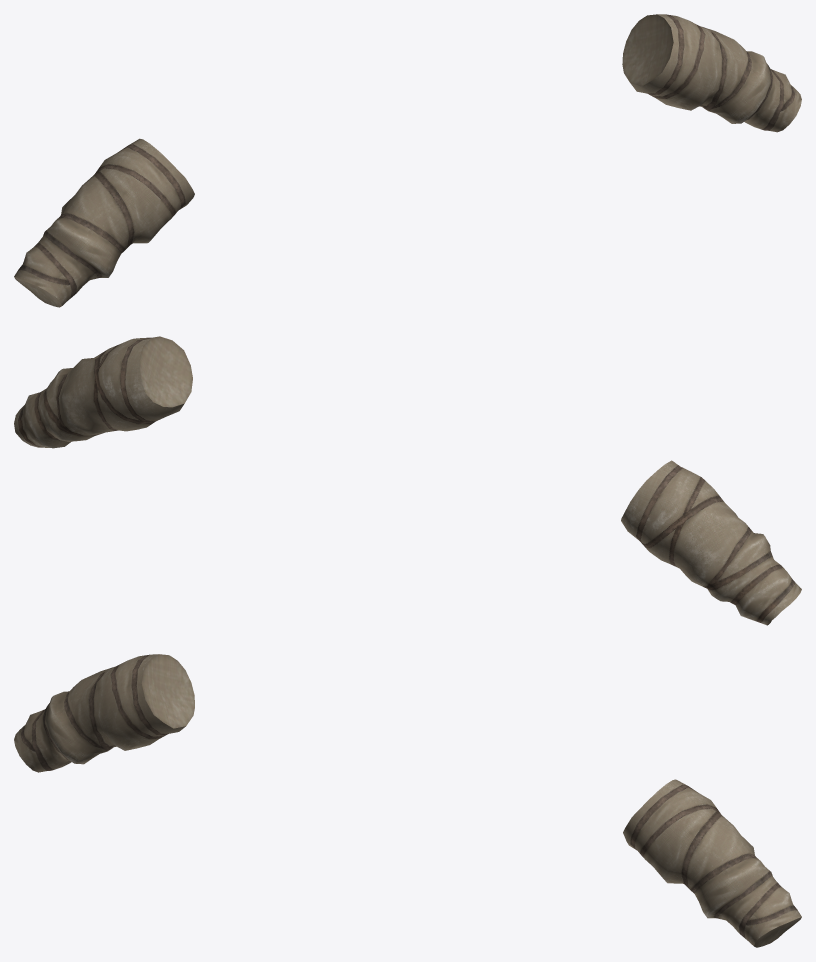
The model's file is dunland_wulf_bracer_light_a.fbx.
3 renders of one model, top to bottom at view 1: azimuth 30°, elevation 25°; view 2: azimuth 150°, elevation 25°; view 3: azimuth 330°, elevation 25°, orthographic.
Parts seen in each view (by area): view 1: dunland_wulf_bracer_light_a; view 2: dunland_wulf_bracer_light_a; view 3: dunland_wulf_bracer_light_a.
Boxes of the visible parts, bbox=[...] form: dunland_wulf_bracer_light_a: bbox=[14, 14, 801, 307]; dunland_wulf_bracer_light_a: bbox=[14, 336, 801, 625]; dunland_wulf_bracer_light_a: bbox=[14, 654, 801, 947].
Size of the model in its own units: 1.38 by 0.1438 by 0.2273.
Materials: 1 (1 with a texture image).
